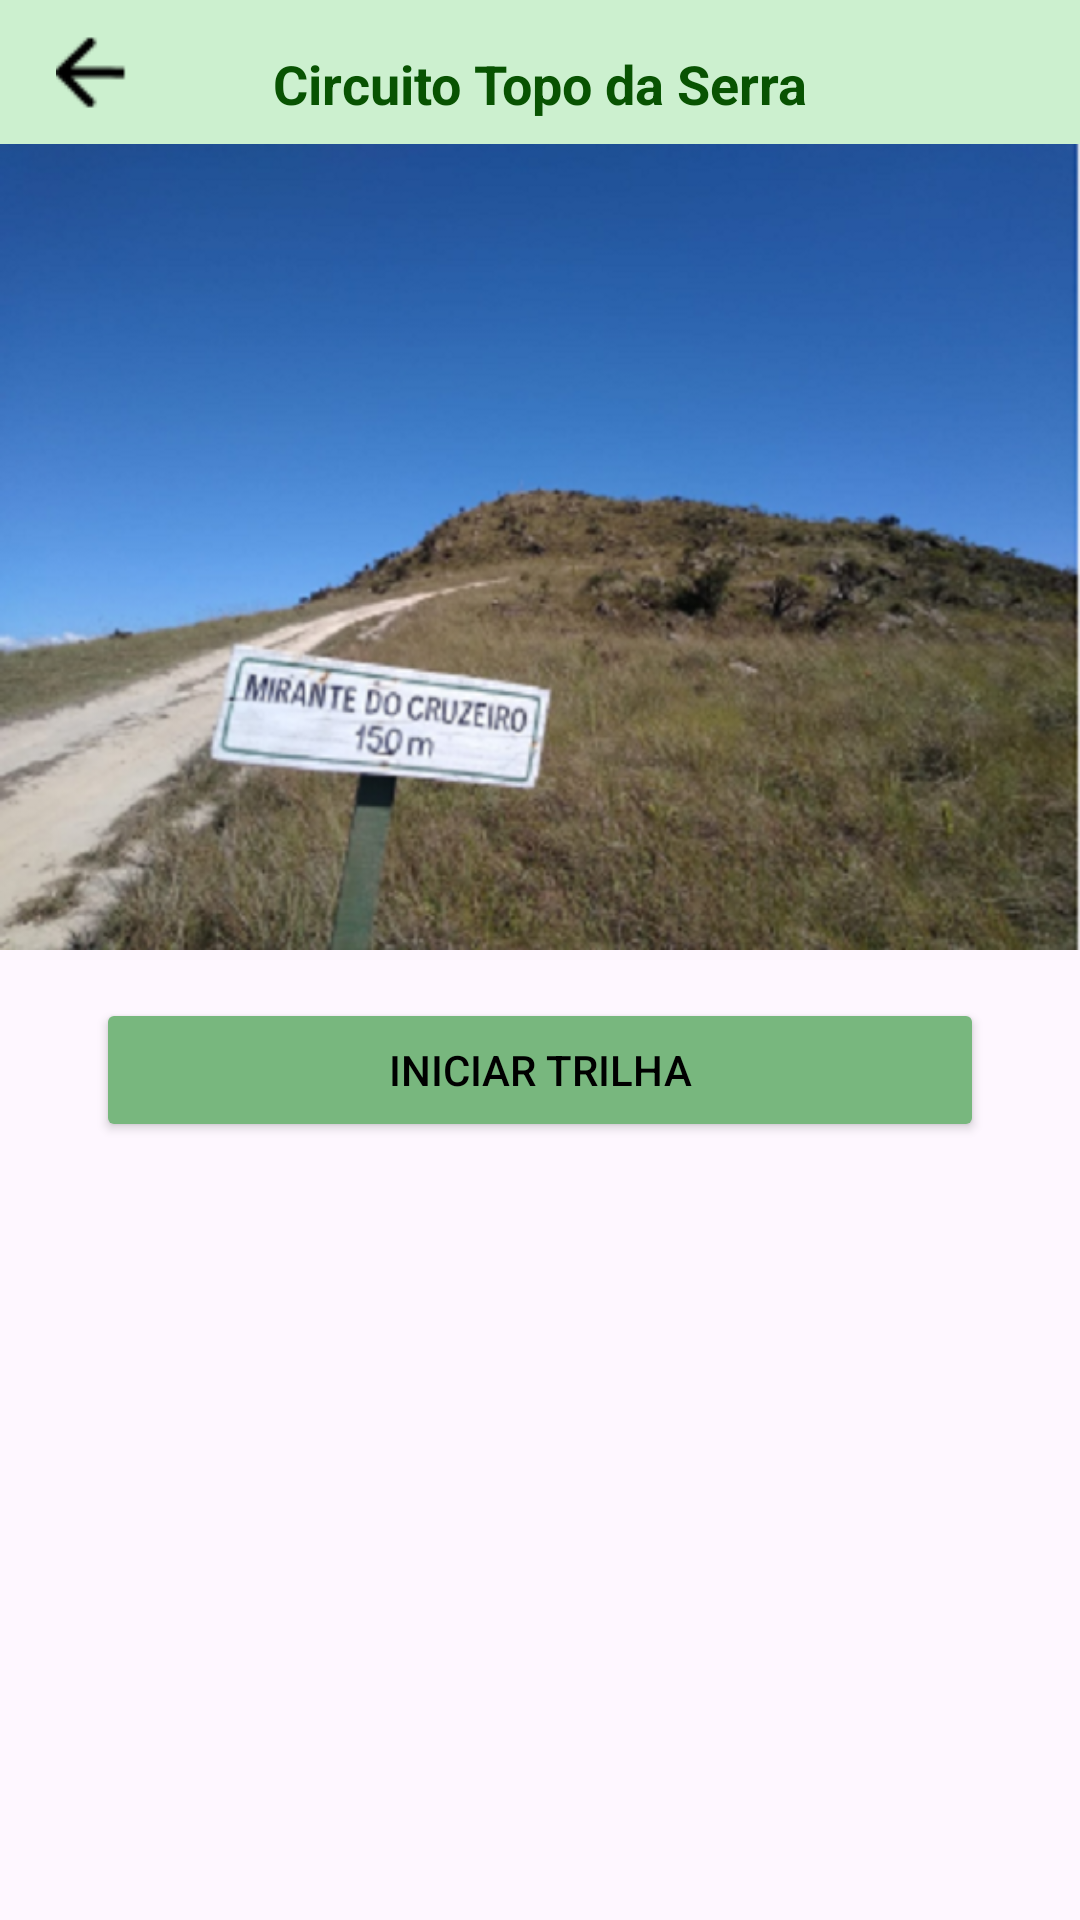

Named icons in this screenshot (1080 x 1920) and their centers, (x,y):
voltar: (91,72)
